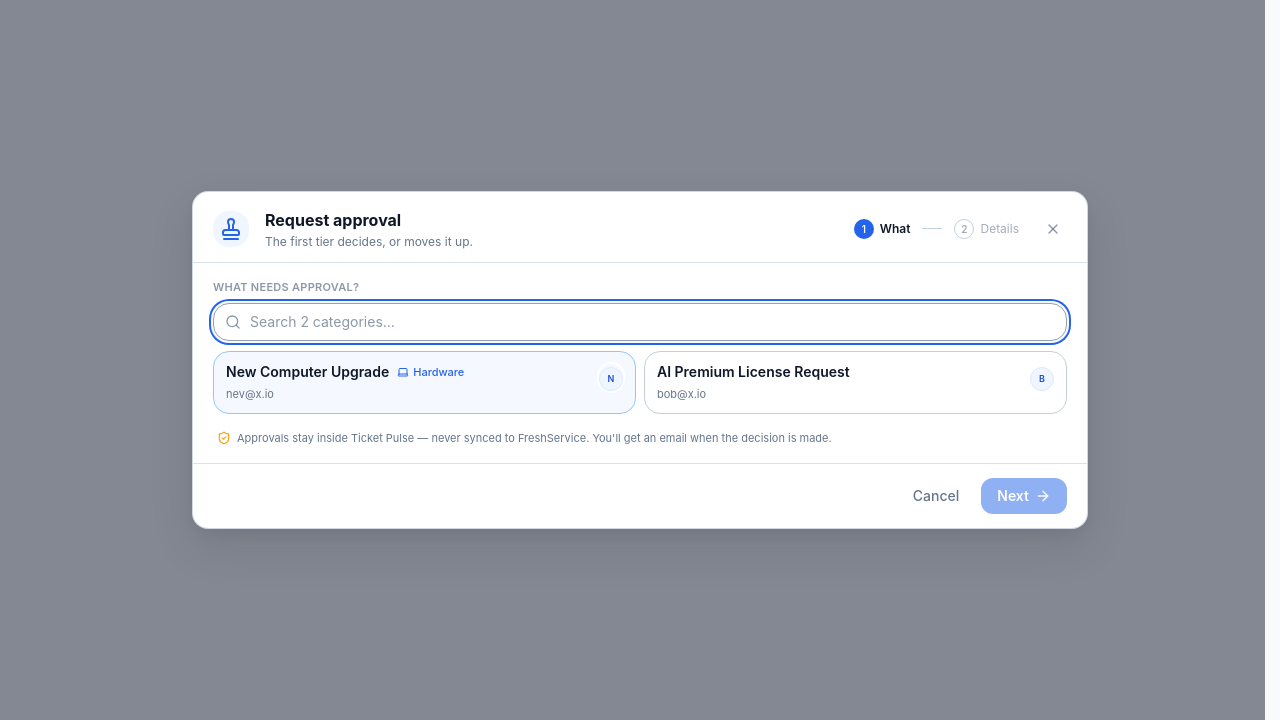
Test: RequestApprovalModal — steps and hardware items › picking a category moves on: What → Details, or What → Hardware → Details for hardware
The image size is (1280, 720).
Expected: the list named "Steps" reads "1 What 2 Details", [850,217,1023,241]
Click the option "AI Premium License Request bob@x.io B".
click(753, 372)  # box [644,351,1067,414]
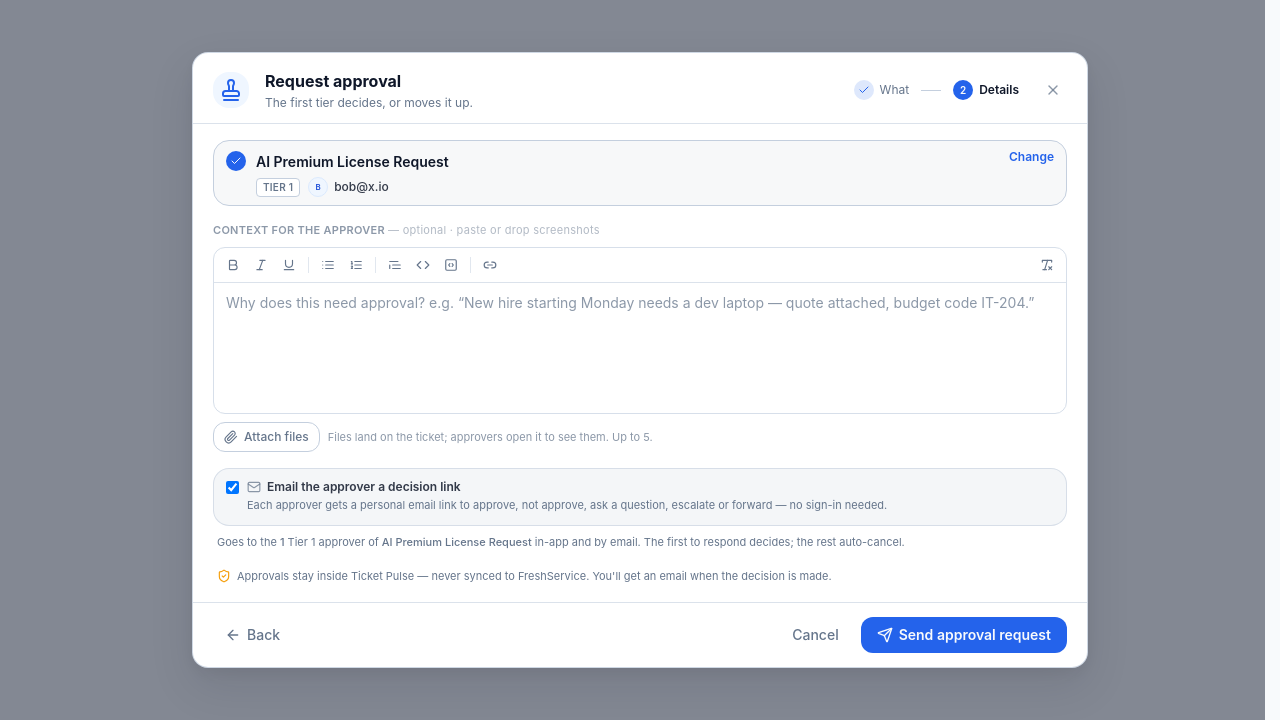
Expected: the button "Send approval request" is shown, [861,617,1067,653]
Click the button "Change".
click(1032, 157)  # box [1009,149,1054,165]
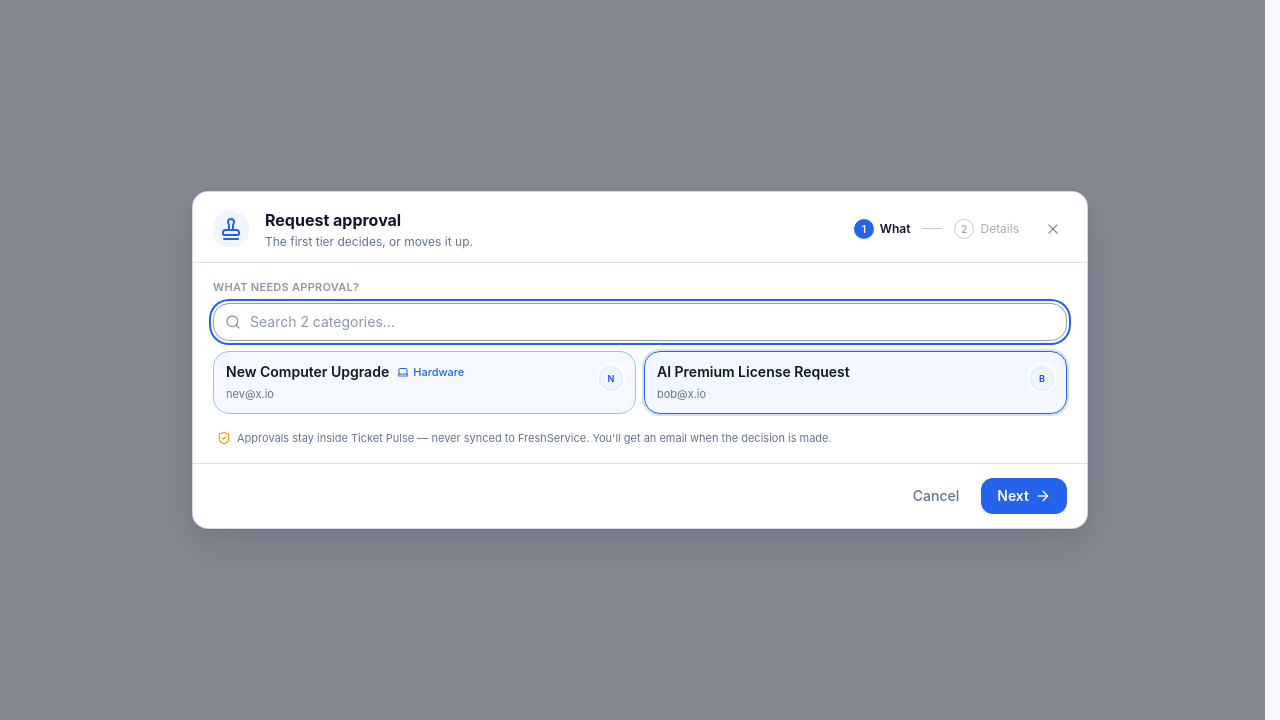
Click the option "New Computer Upgrade Hardware nev@x.io N".
click(308, 372)  # box [213,351,636,414]
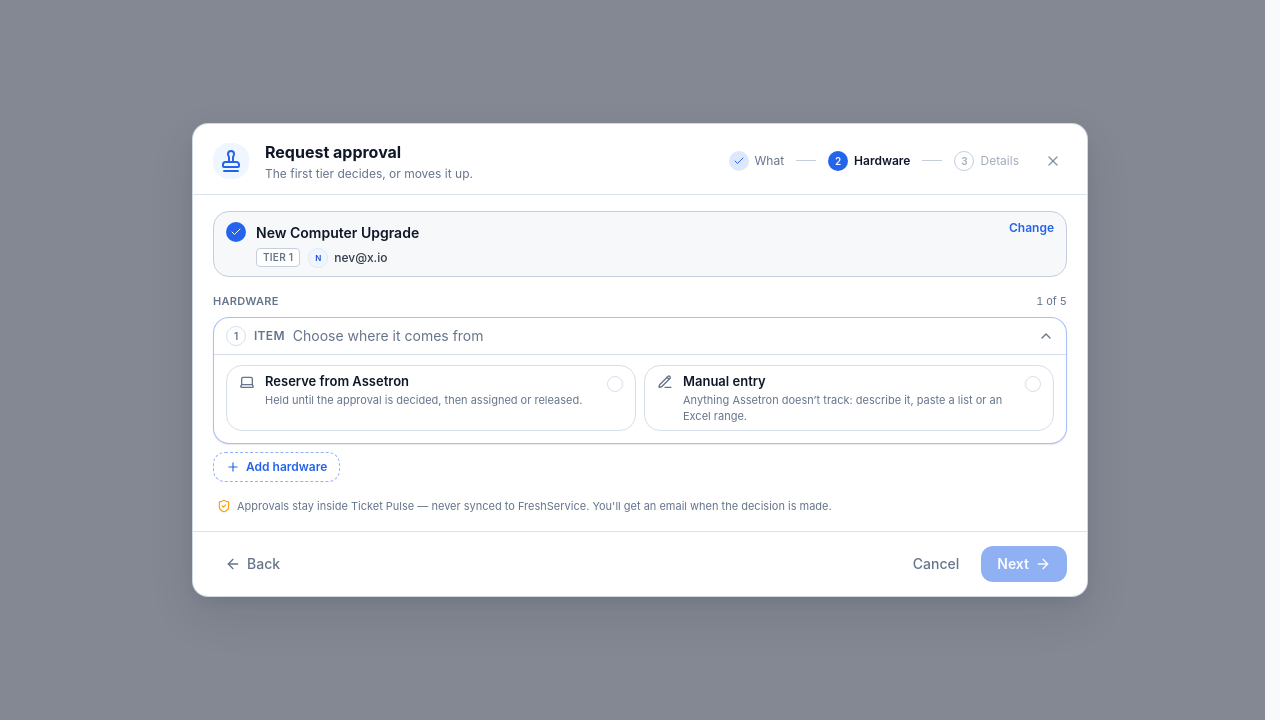
Expected: the list named "Steps" reads "What 2 Hardware 3 Details", [724,149,1023,173]
Expected: the number of elements with test id "hardware-item" is 1, [213,317,1067,444]
